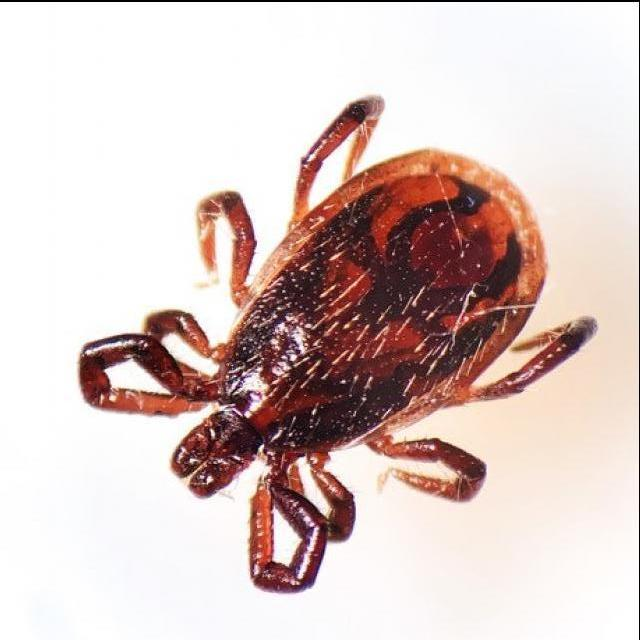Ixodes Ricinus-M: (78, 94, 602, 594)
